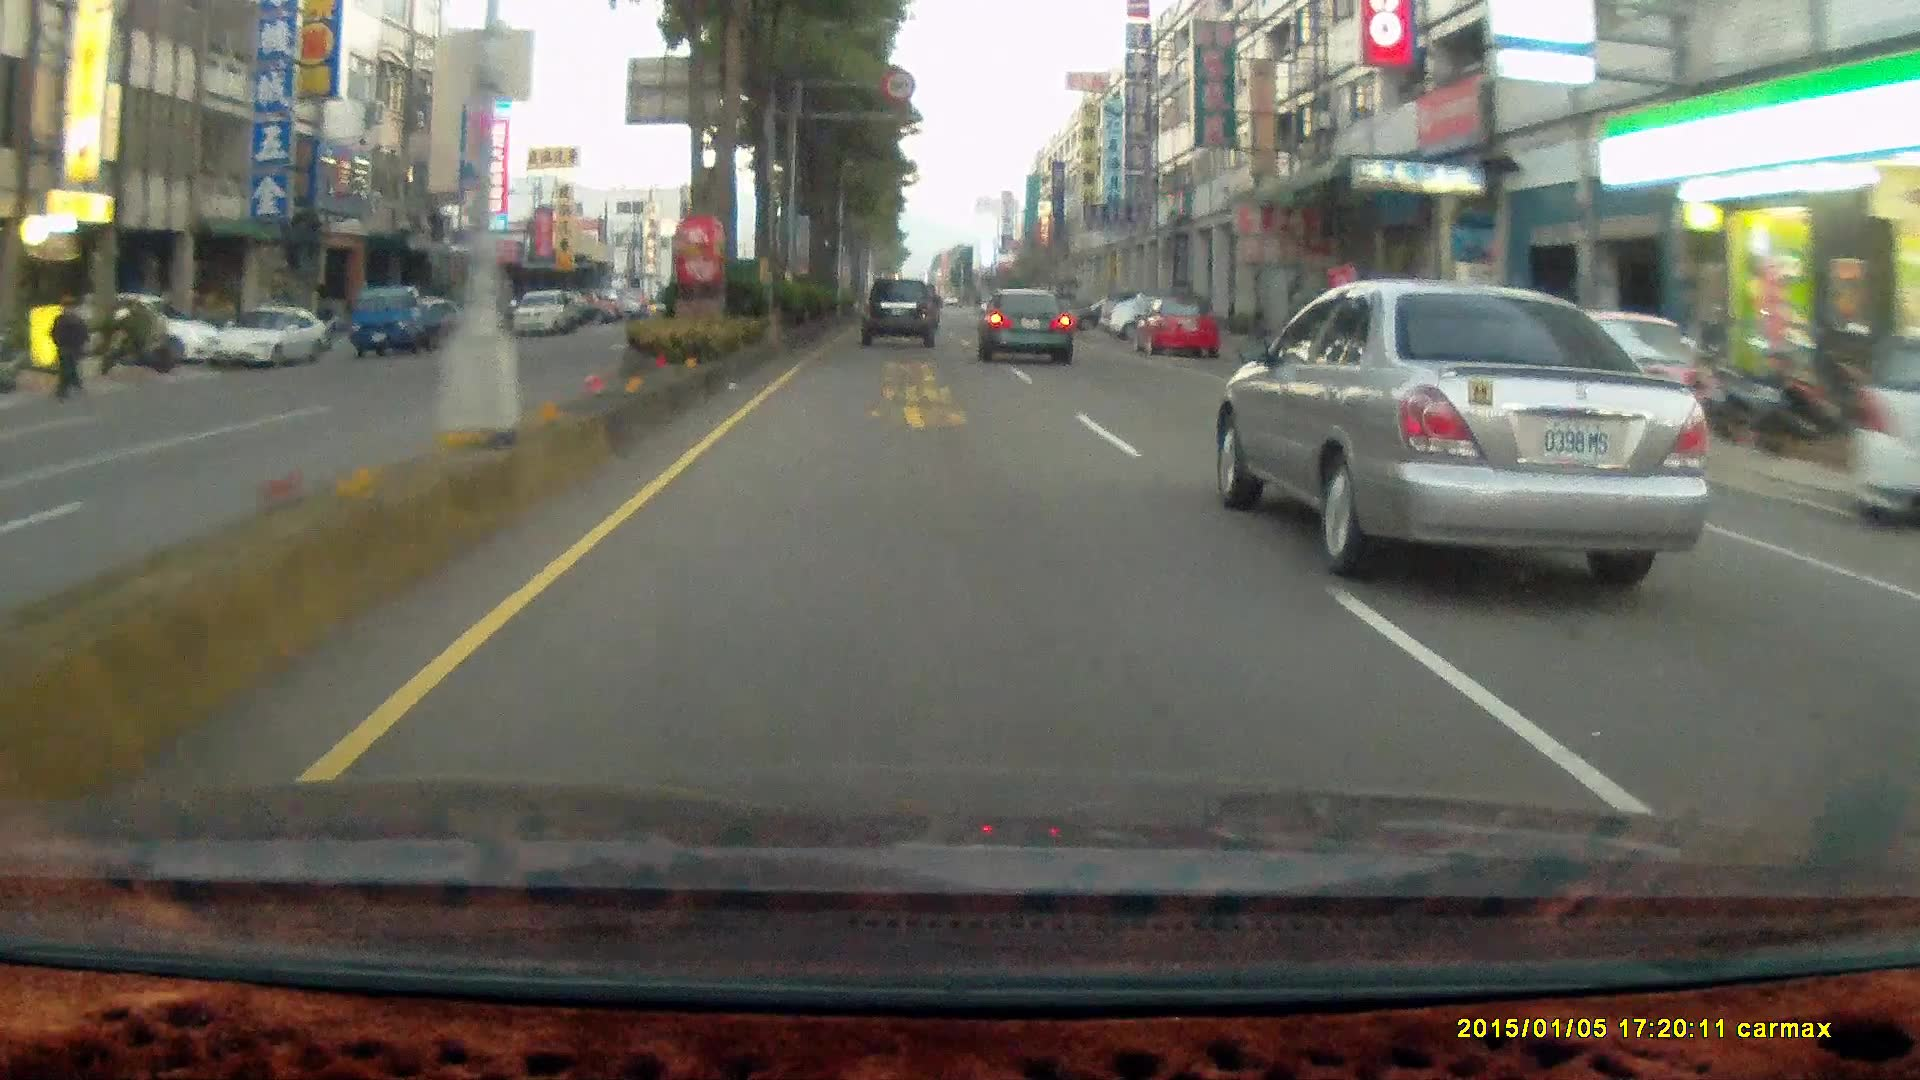pedestrian: (50, 301, 85, 402), (50, 302, 84, 402)
vehicle: (1227, 286, 1722, 577), (1495, 312, 1702, 462), (1511, 317, 1720, 464), (1319, 302, 1500, 394), (1847, 335, 1920, 530), (74, 295, 216, 368), (206, 309, 330, 377), (980, 300, 1077, 379), (352, 287, 459, 358), (976, 288, 1073, 364), (207, 314, 327, 376), (348, 285, 442, 358), (860, 280, 940, 353), (861, 278, 939, 348), (1098, 293, 1202, 342), (1136, 304, 1222, 363), (1137, 304, 1223, 363), (383, 296, 471, 345), (511, 290, 570, 338)
